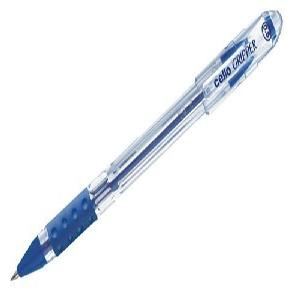pen: (6, 9, 286, 283)
